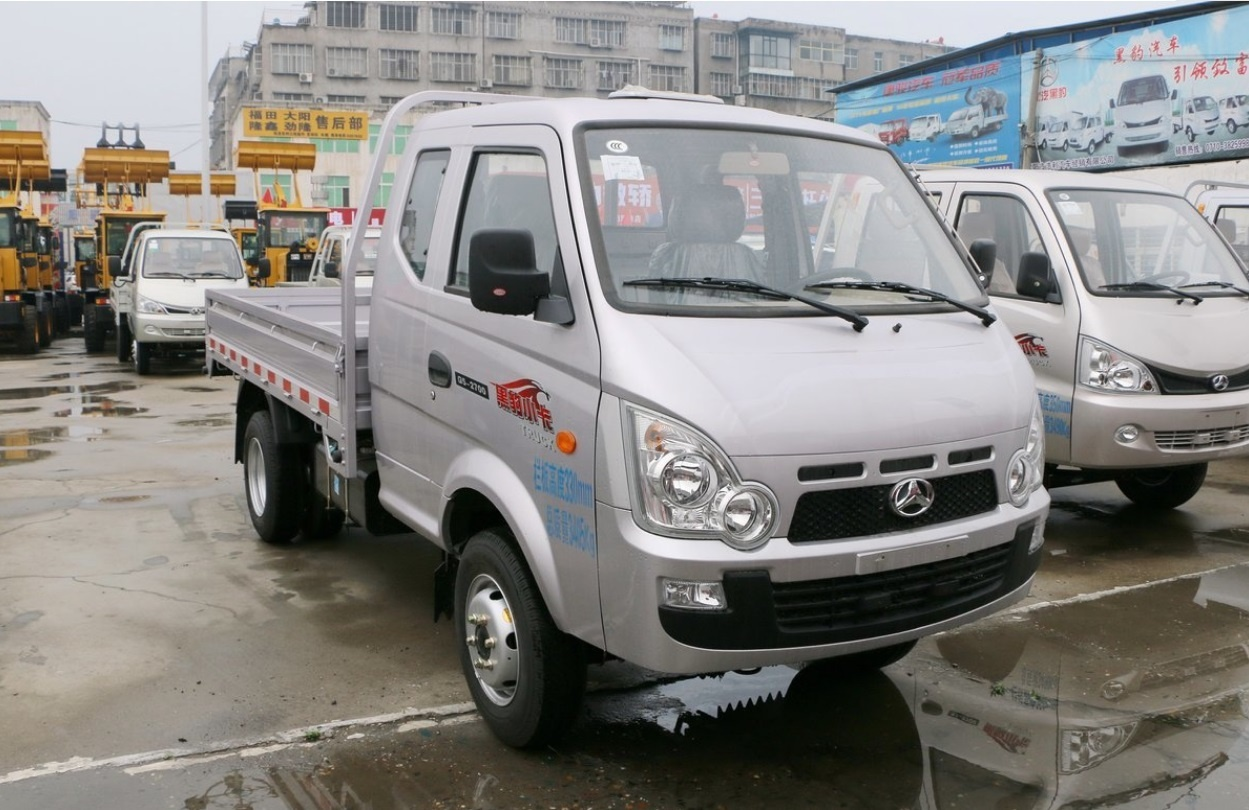truck: (198, 82, 1064, 722)
